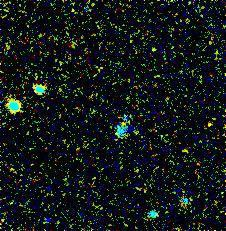star: (196, 109, 226, 139)
